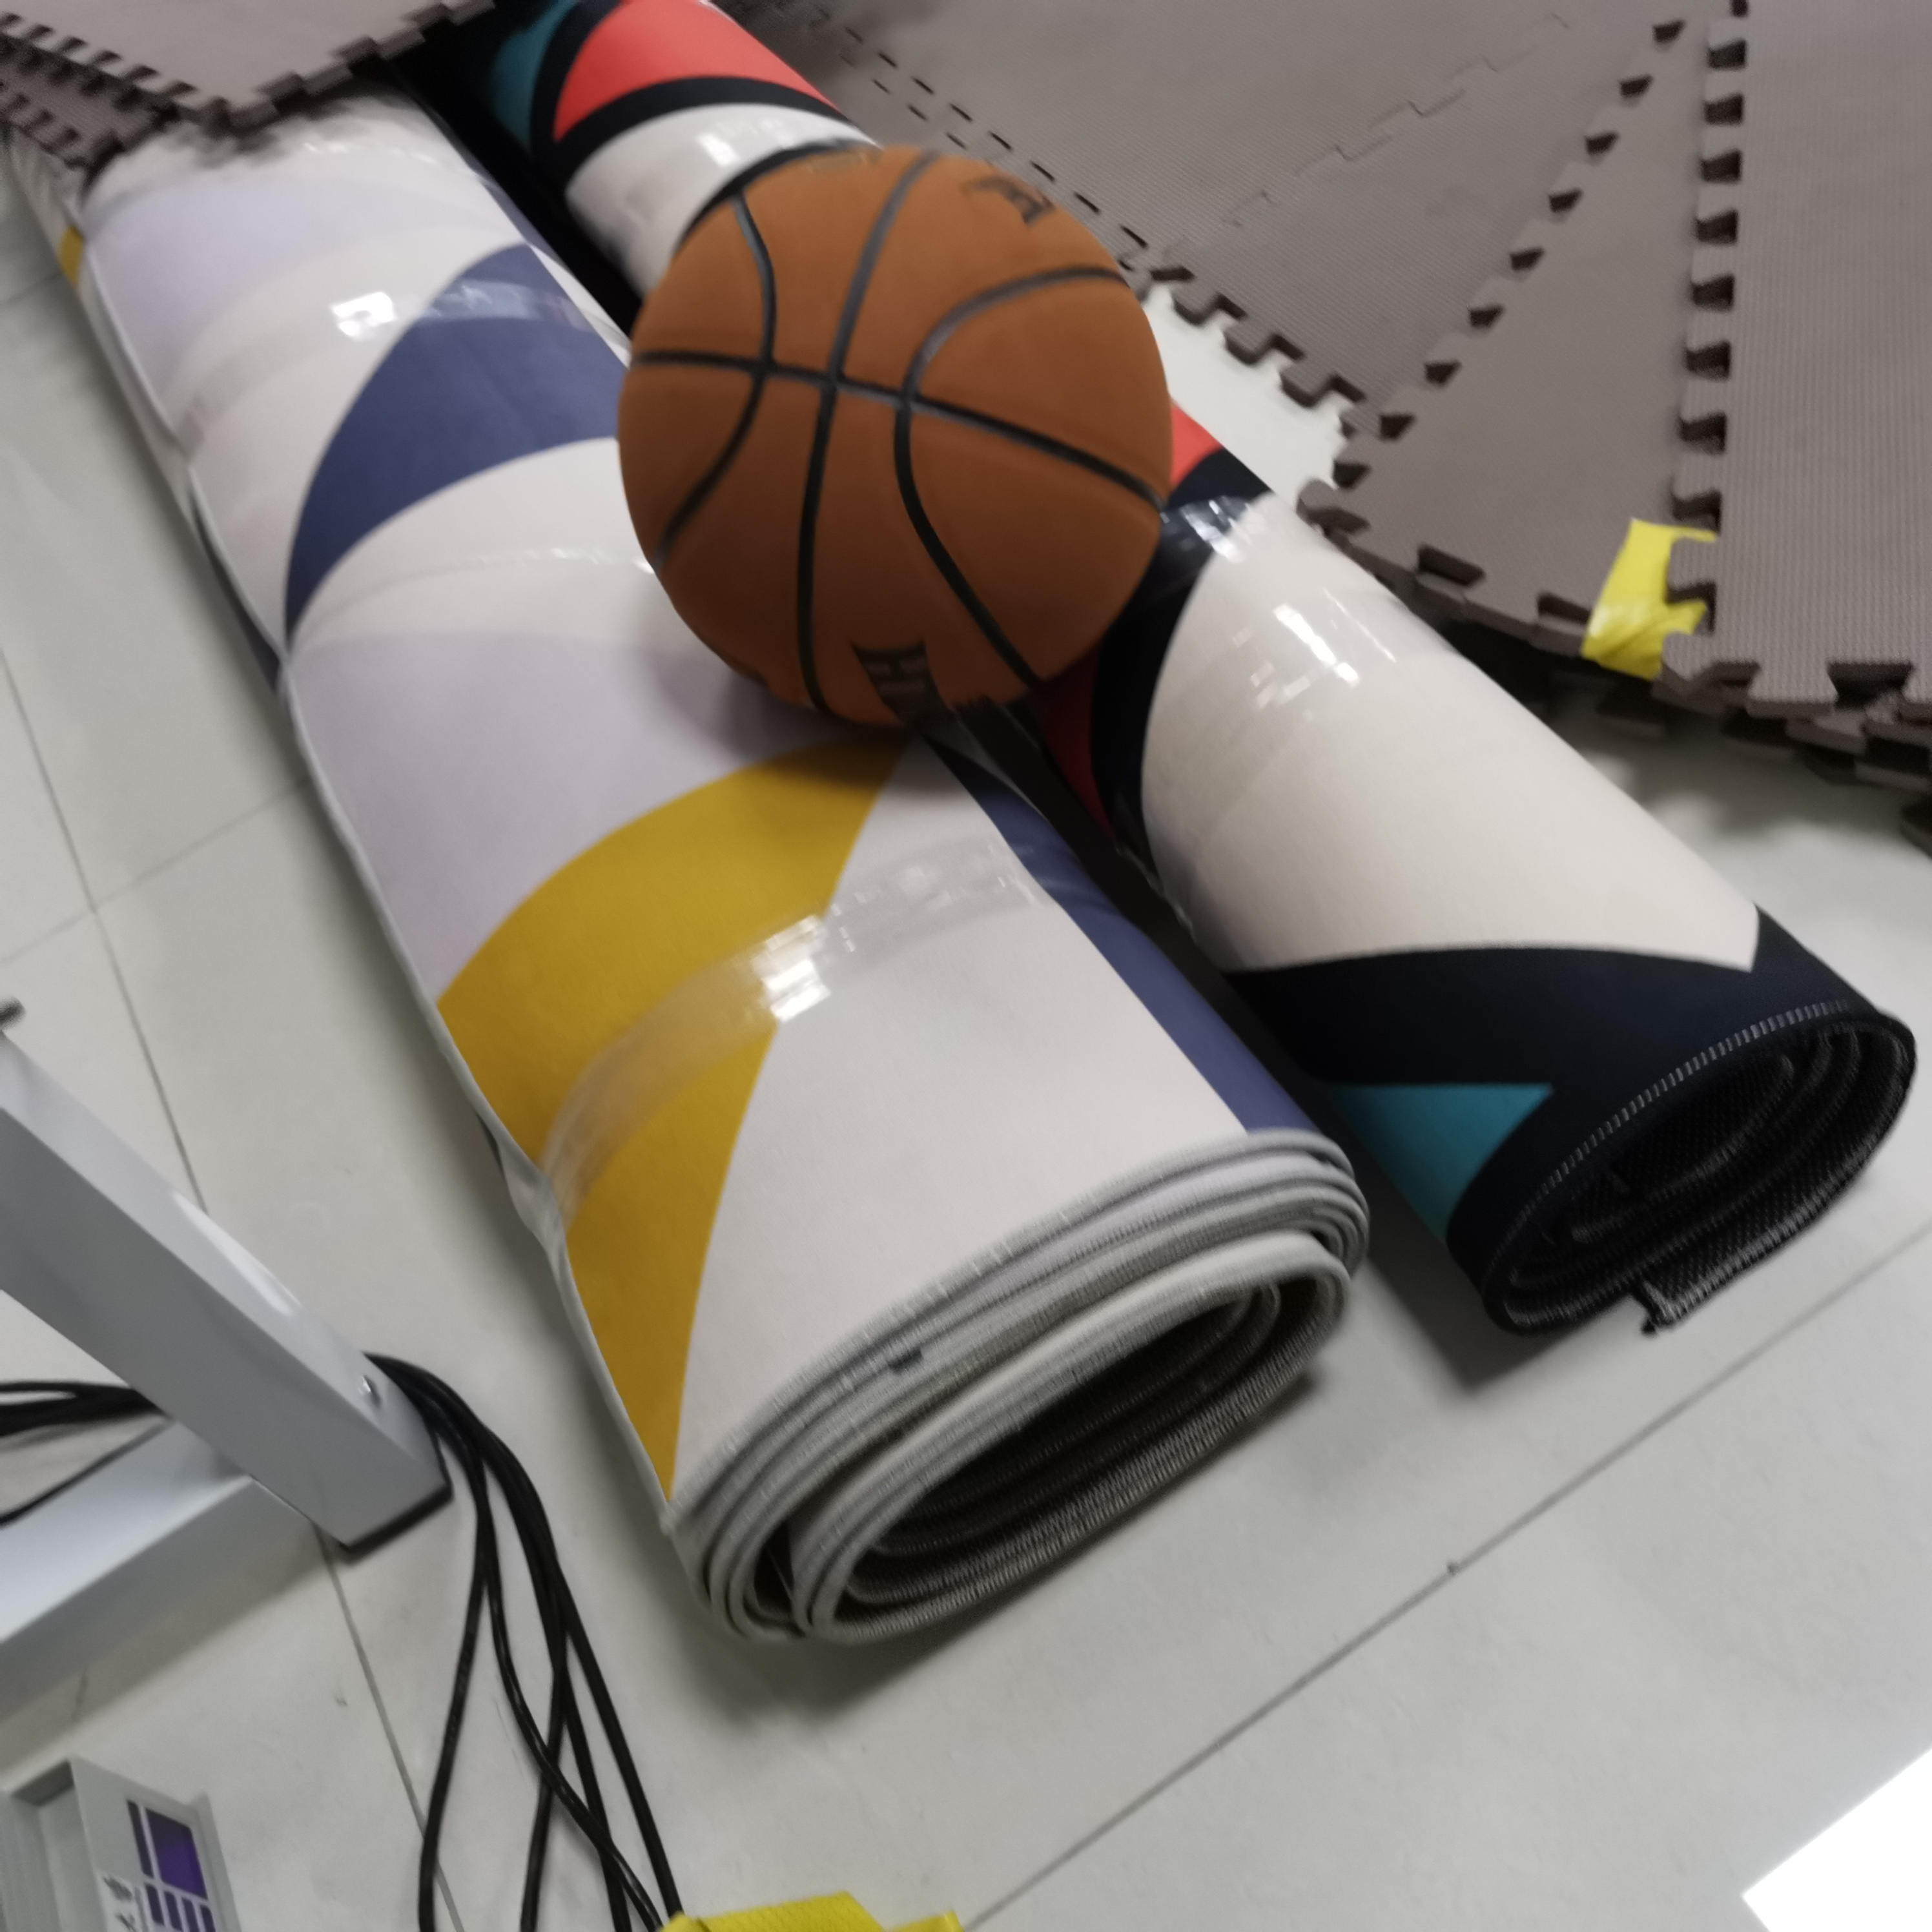basketball: (617, 145, 1171, 729)
